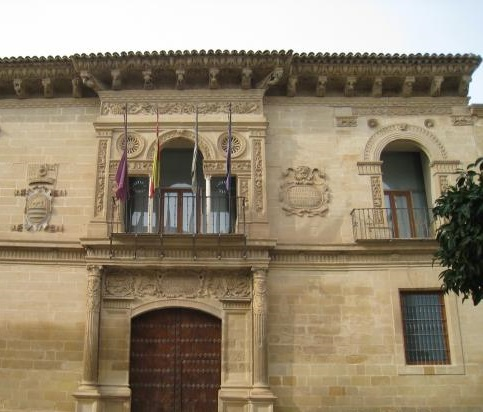arco-medio-punto: (376, 131, 437, 174)
serliana: (107, 125, 250, 235)
